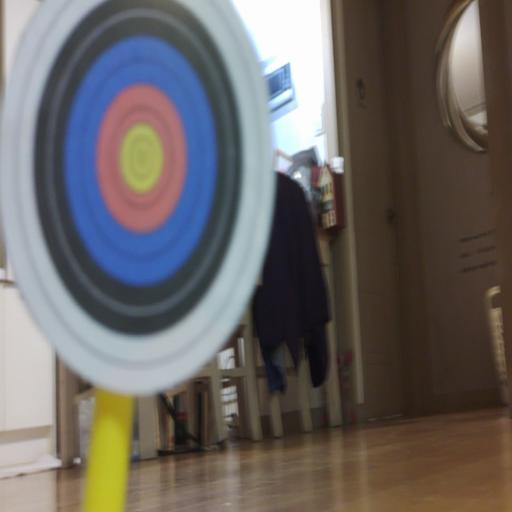target: (0, 0, 276, 394)
